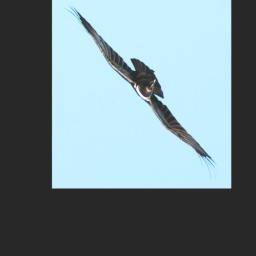Crow: (63, 3, 221, 182)
